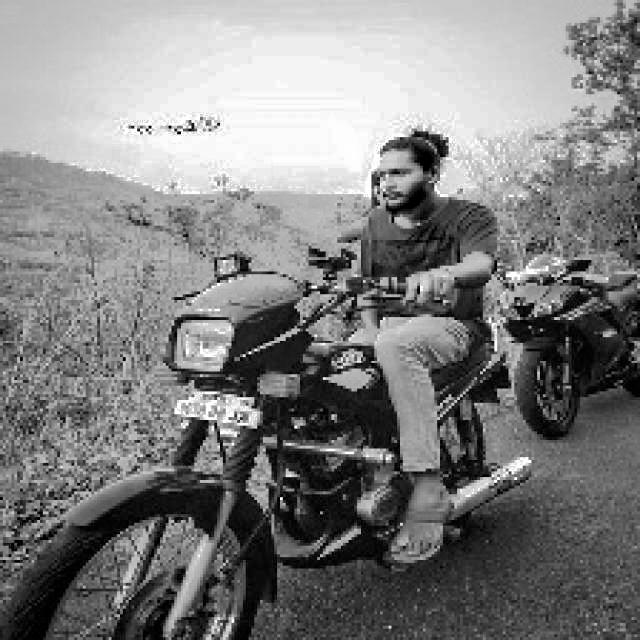Bike: (10, 264, 404, 638), (497, 247, 634, 435)
